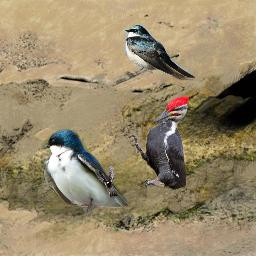Swallow: (41, 128, 132, 220), (124, 24, 196, 80), (95, 163, 118, 197)
Woodpecker: (128, 96, 189, 190)
